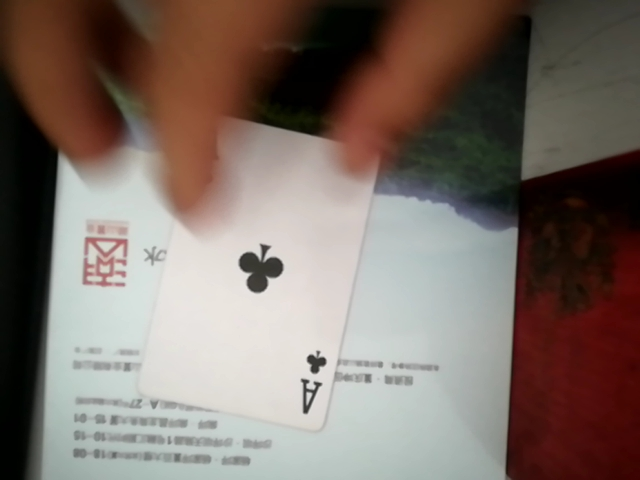mh a: (145, 114, 368, 432)
